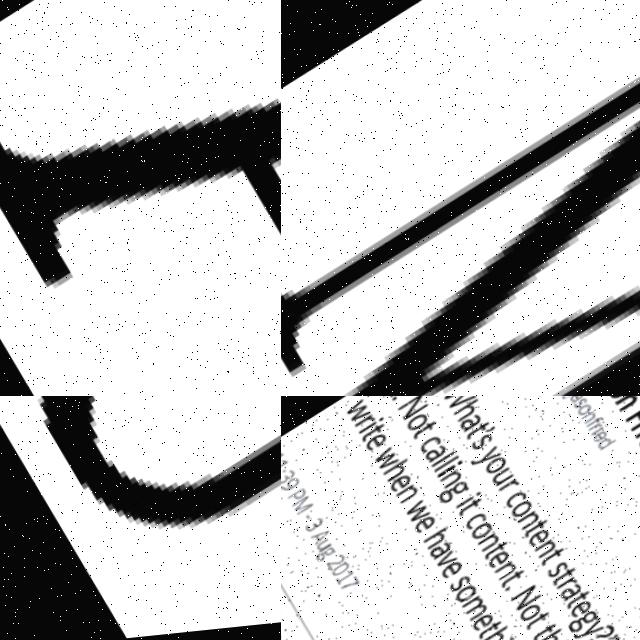0: (327, 561, 350, 581)
1: (330, 570, 354, 589), (281, 458, 289, 476), (281, 449, 287, 469)
2: (324, 555, 345, 573)
3: (302, 517, 324, 537), (281, 469, 296, 488)
7: (337, 578, 358, 596)
9: (281, 477, 300, 496)
M: (281, 0, 640, 396)
P: (0, 108, 281, 286)
U: (0, 396, 281, 628)
